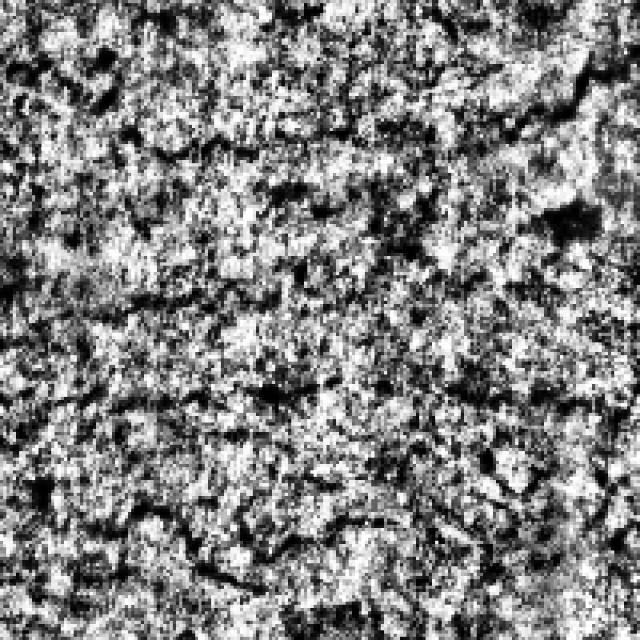Pitted_Surface: (0, 38, 630, 348), (10, 378, 422, 592)
